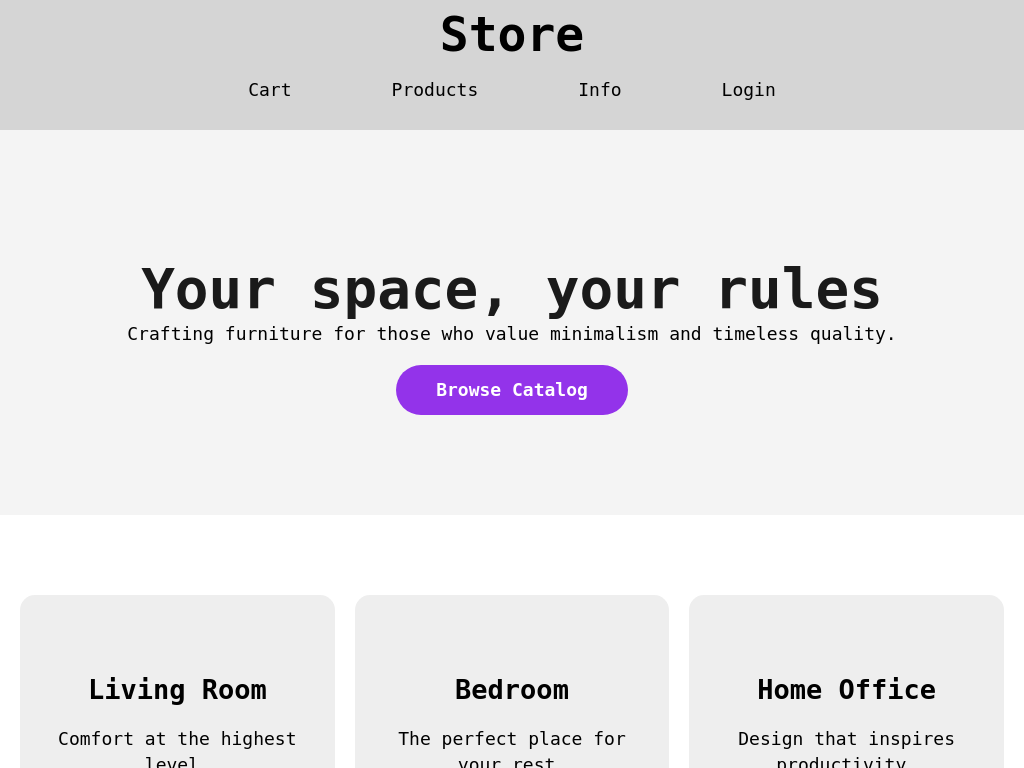
Test case: TC-04: Navigation – info › go to /info page
Click the link "Info" at (600, 90), box x1=578 y1=79 x2=621 y2=100
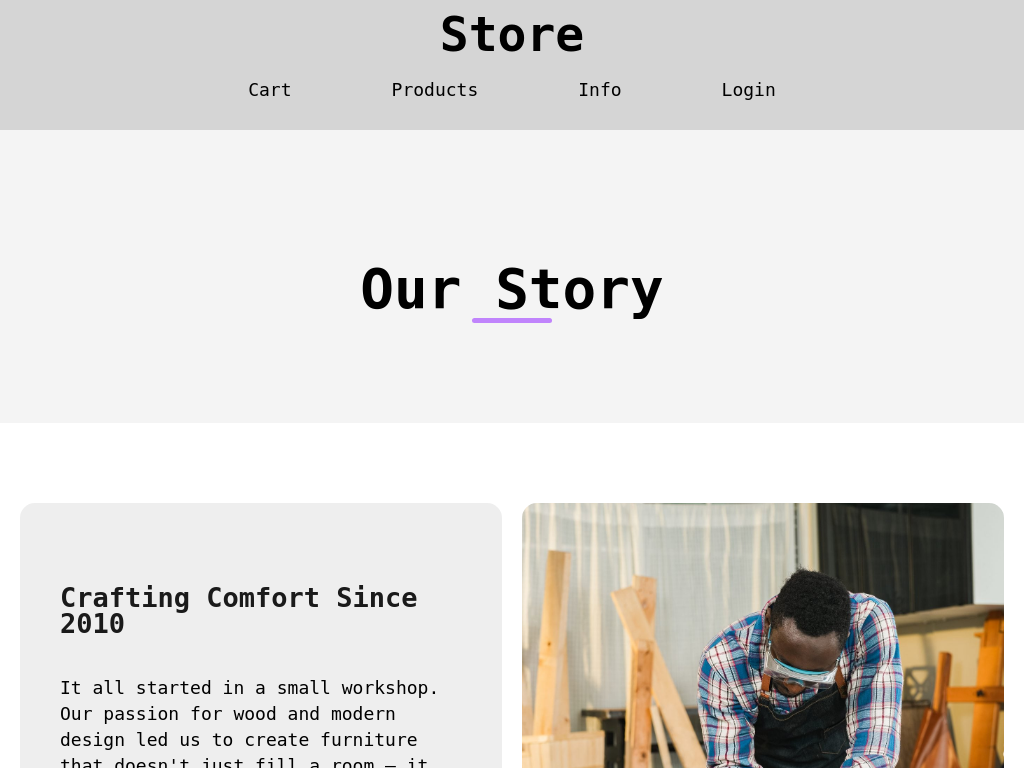
Check: the element with class "info-page" is shown
